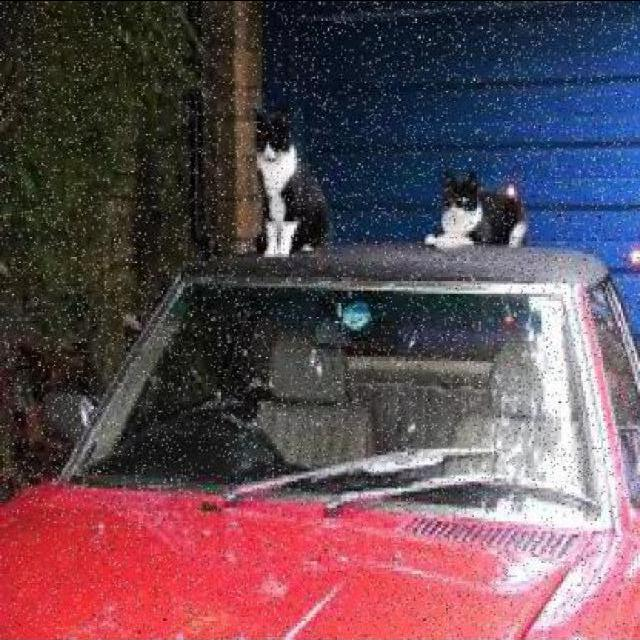Front-Windscreen-Damage: (91, 257, 610, 541)
